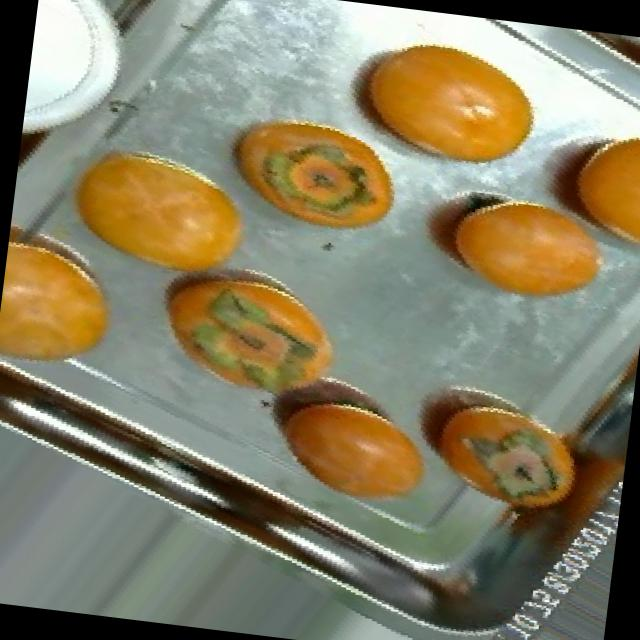Fruit: (326, 3, 571, 195), (40, 119, 279, 302), (241, 345, 464, 537), (196, 80, 427, 258), (387, 356, 598, 532), (410, 168, 633, 328), (498, 84, 640, 273), (563, 28, 640, 104)
